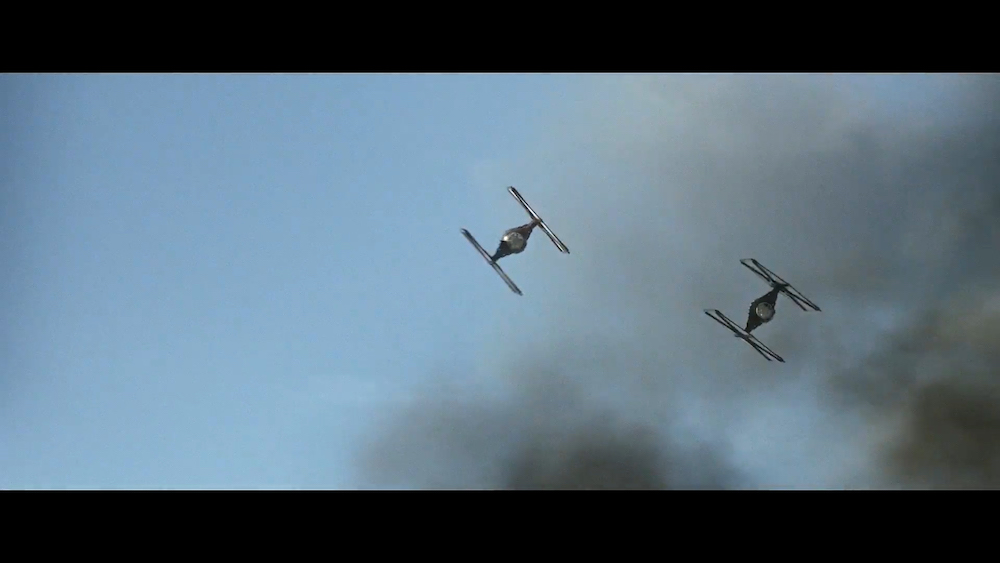Tie Fighter: (702, 257, 825, 365), (459, 184, 574, 299)
